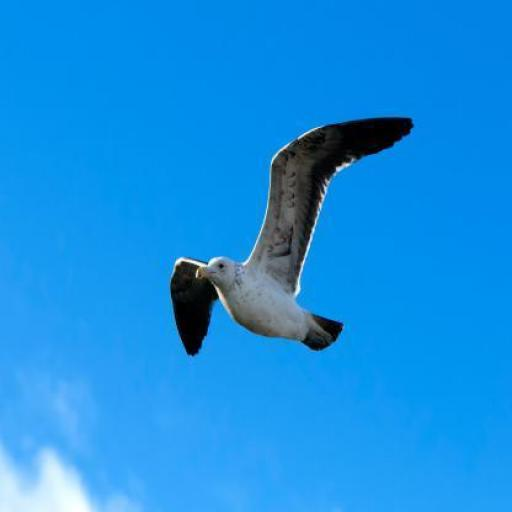bird: (170, 117, 416, 355)
